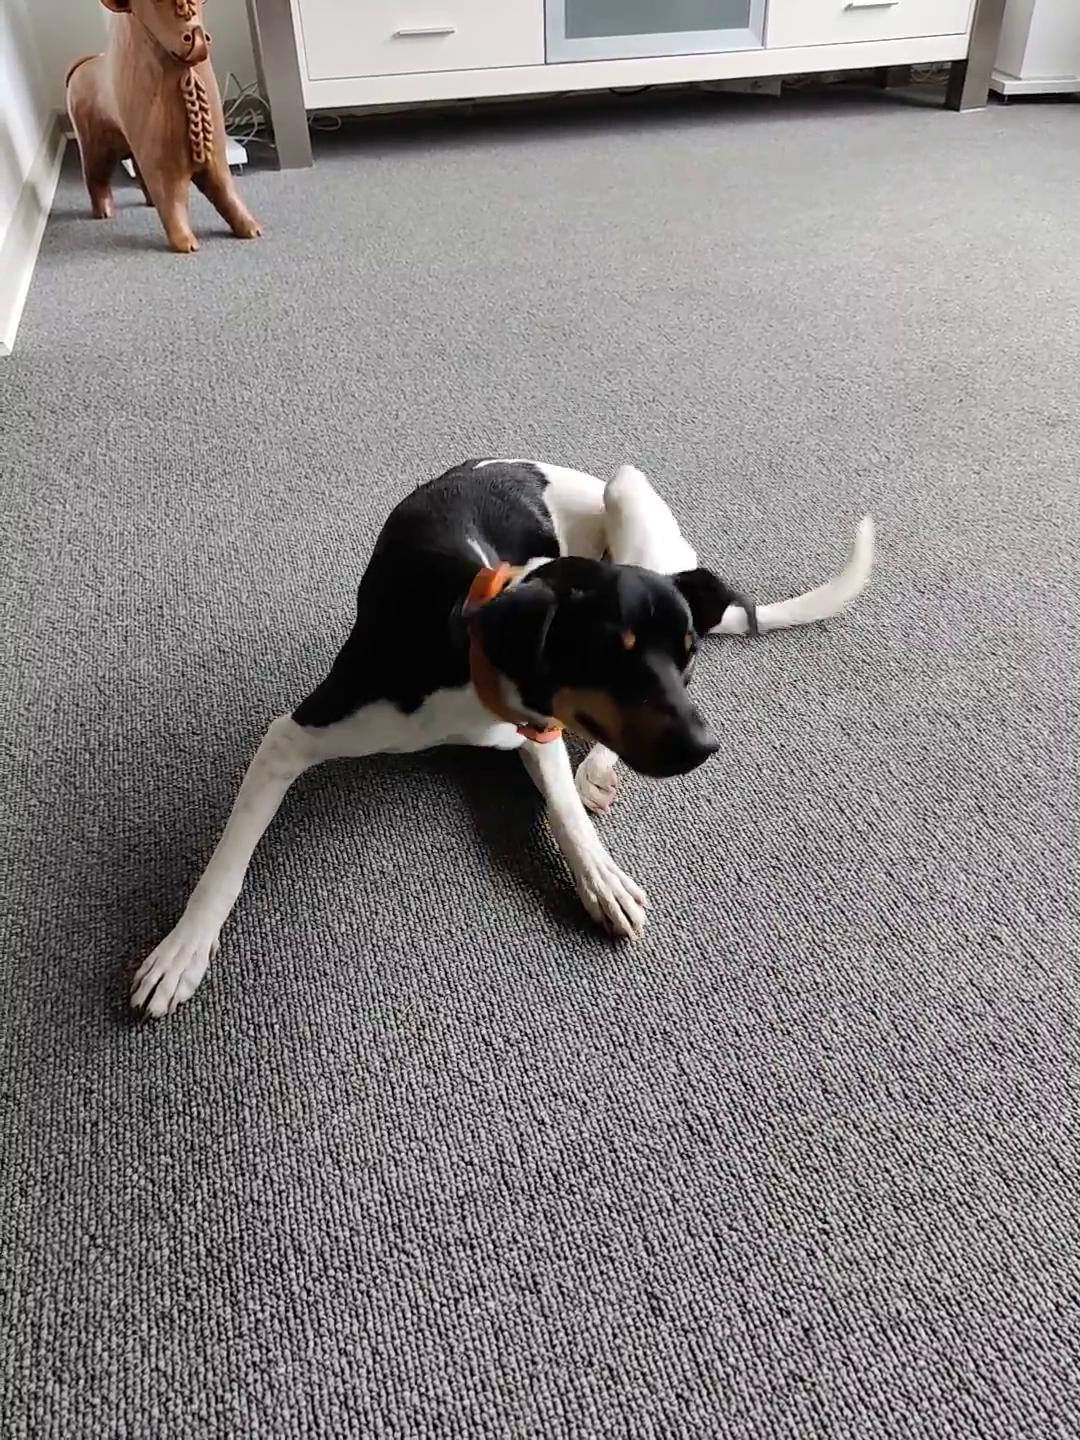Dog: (118, 444, 881, 1028)
